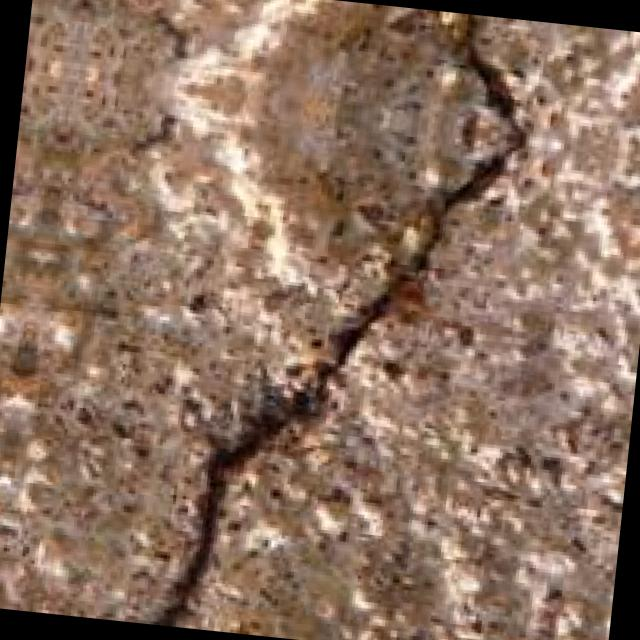crack: (156, 0, 566, 640)
